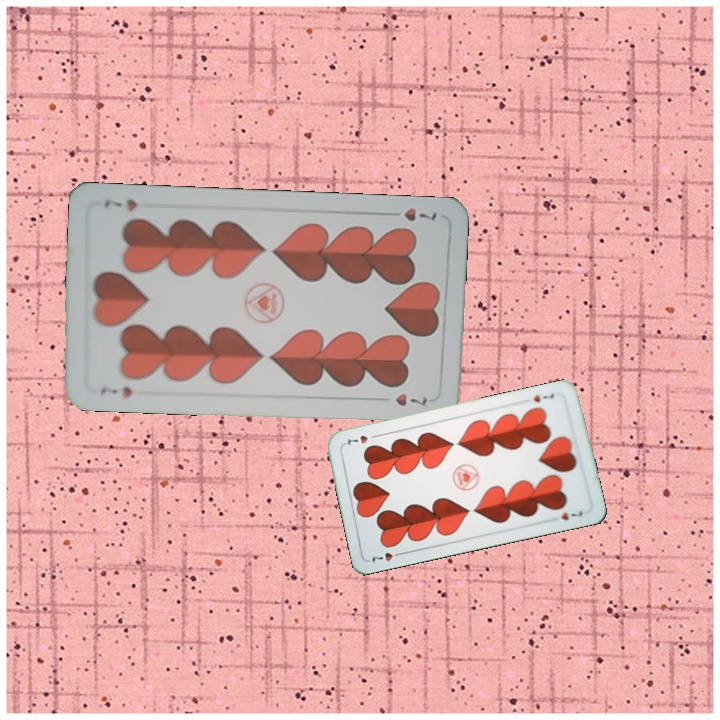H7: (383, 203, 439, 224), (368, 548, 406, 566), (96, 383, 135, 400), (530, 388, 556, 405)
